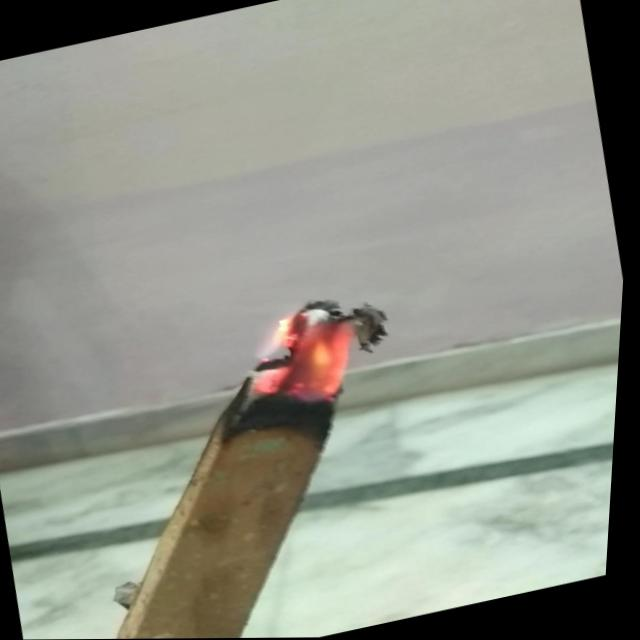fire: (242, 288, 378, 411)
